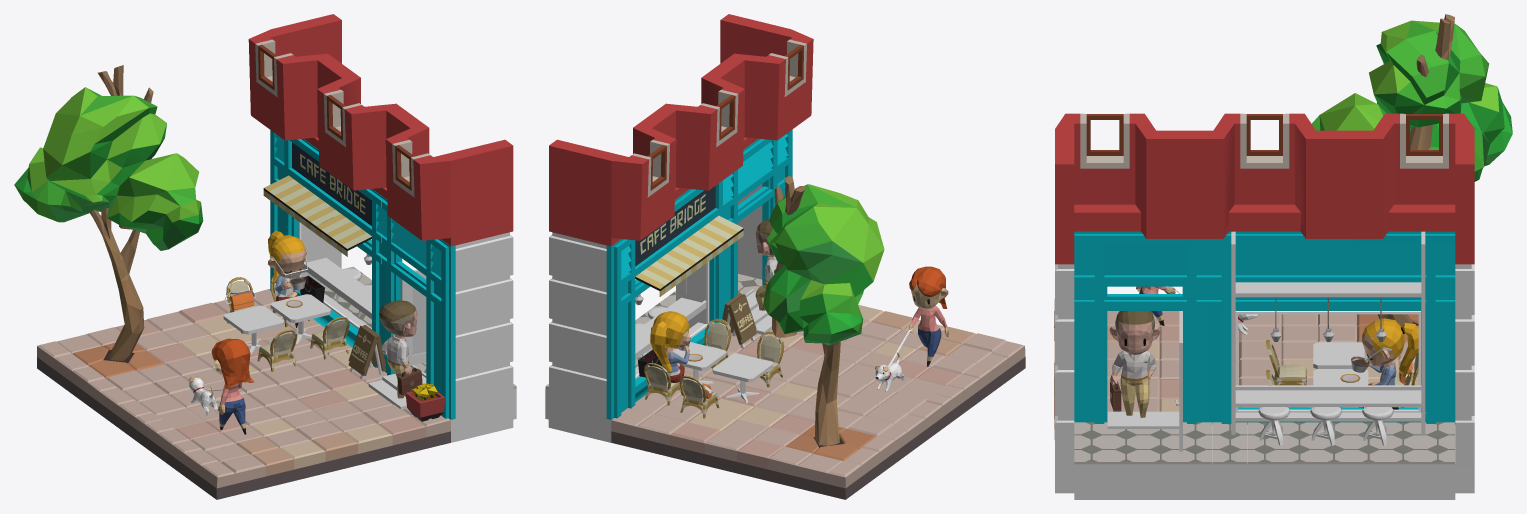
File: 0005_cafeSanfrancisco.fbx
3 views of the same model, side by side, from view 1: azimuth 30°, elevation 25°; view 2: azimuth 150°, elevation 25°; view 3: azimuth 270°, elevation 25° (orthographic). The views are drawn at different scales.
Visible parts, largest first — view 1: SlidewalkBlock, Exterior_Building01, Tree_Leaves, Exterior_Building02, Enterance02, Enterance01, Tree (×2), Interior_Table, Exterior_Table (×2), Enterance01_Sighn, bottom, Woman02_Head (+10 smaller); view 2: SlidewalkBlock, Exterior_Building01, Tree_Leaves, Exterior_Building02 (×2), Enterance01, Enterance02, Tree (×2), Exterior_Chair_Back (×4), Interior_Table, Enterance01_Sighn, Exterior_Table (×2), bottom (+5 smaller); view 3: Exterior_Building01, Enterance01, Enterance02, bottom, Tree_Leaves, Interior_Table, SlidewalkBlock, interior_Tile (×7), Exterior_Building02 (×2), Interior_Chair (×3), Woman01_Head, Exterior_Table (×2) (+11 smaller).
Part boxes in pixels (x1,y1,x2,y2): SlidewalkBlock: [37, 289, 450, 499]; Exterior_Building01: [248, 14, 513, 246]; Tree_Leaves: [14, 87, 203, 250]; Exterior_Building02: [455, 232, 513, 418]; Enterance02: [381, 198, 455, 419]; Enterance01: [270, 130, 384, 367]; Tree (×2): [89, 65, 153, 361]; Interior_Table: [301, 223, 402, 328]; Exterior_Table (×2): [223, 294, 331, 334]; Enterance01_Sighn: [292, 142, 371, 225]; bottom: [451, 388, 516, 442]; Woman02_Head: [211, 338, 254, 389]; SlidewalkBlock: [611, 305, 1025, 499]; Exterior_Building01: [549, 14, 813, 246]; Tree_Leaves: [763, 184, 884, 345]; Exterior_Building02 (×2): [549, 184, 762, 418]; Enterance01: [606, 177, 728, 419]; Enterance02: [725, 129, 792, 303]; Tree (×2): [772, 175, 840, 445]; Exterior_Chair_Back (×4): [644, 318, 783, 401]; Interior_Table: [635, 263, 706, 375]; Enterance01_Sighn: [635, 186, 715, 266]; Exterior_Table (×2): [673, 342, 773, 382]; bottom: [545, 388, 611, 442]; Exterior_Building01: [1055, 113, 1474, 264]; Enterance01: [1209, 231, 1455, 424]; Enterance02: [1074, 231, 1209, 423]; bottom: [1055, 425, 1474, 499]; Tree_Leaves: [1312, 20, 1512, 181]; Interior_Table: [1231, 231, 1425, 434]; SlidewalkBlock: [1054, 299, 1418, 439]; interior_Tile (×7): [1109, 422, 1454, 464]; Exterior_Building02 (×2): [1055, 264, 1474, 466]; Interior_Chair (×3): [1258, 407, 1393, 445]; Woman01_Head: [1361, 318, 1418, 376]; Exterior_Table (×2): [1313, 342, 1368, 385].
Bounding box in the file's own units: 10.38 × 9.09 × 10.94.
